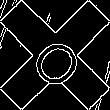O_NE: (22, 22, 88, 88)
